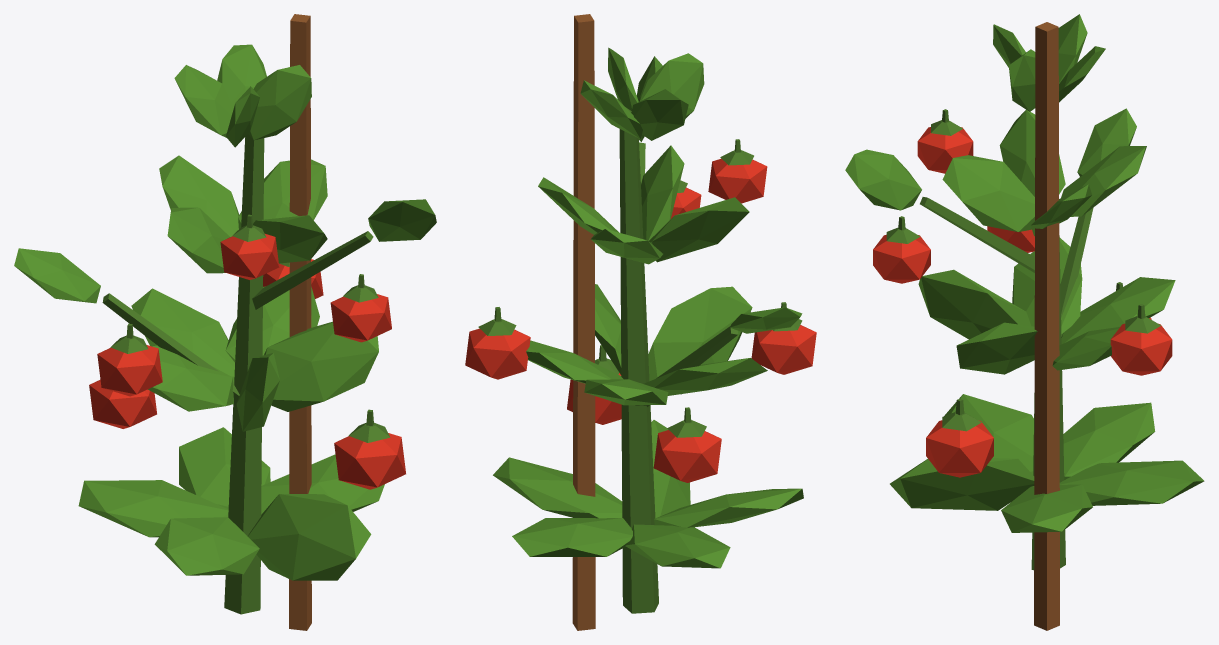
File: TomatoPlant03.fbx
3 views of the same model, side by side, from view 1: azimuth 30°, elevation 25°; view 2: azimuth 150°, elevation 25°; view 3: azimuth 270°, elevation 25° (orthographic).
Visible parts, largest first — view 1: TomatoPlant03; view 2: TomatoPlant03; view 3: TomatoPlant03.
Boxes of the visible parts, x1=… form: TomatoPlant03: x1=14, y1=14, x2=436, y2=630; TomatoPlant03: x1=465, y1=14, x2=816, y2=630; TomatoPlant03: x1=845, y1=14, x2=1204, y2=630.
Bounding box in the file's own units: 0.5252 × 0.91 × 0.4953.
